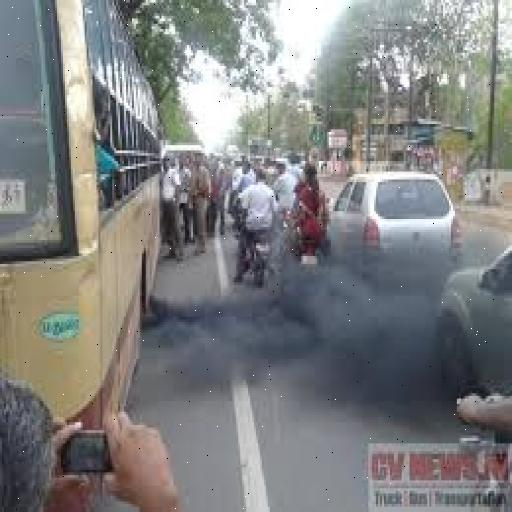smoke: (132, 277, 429, 401)
